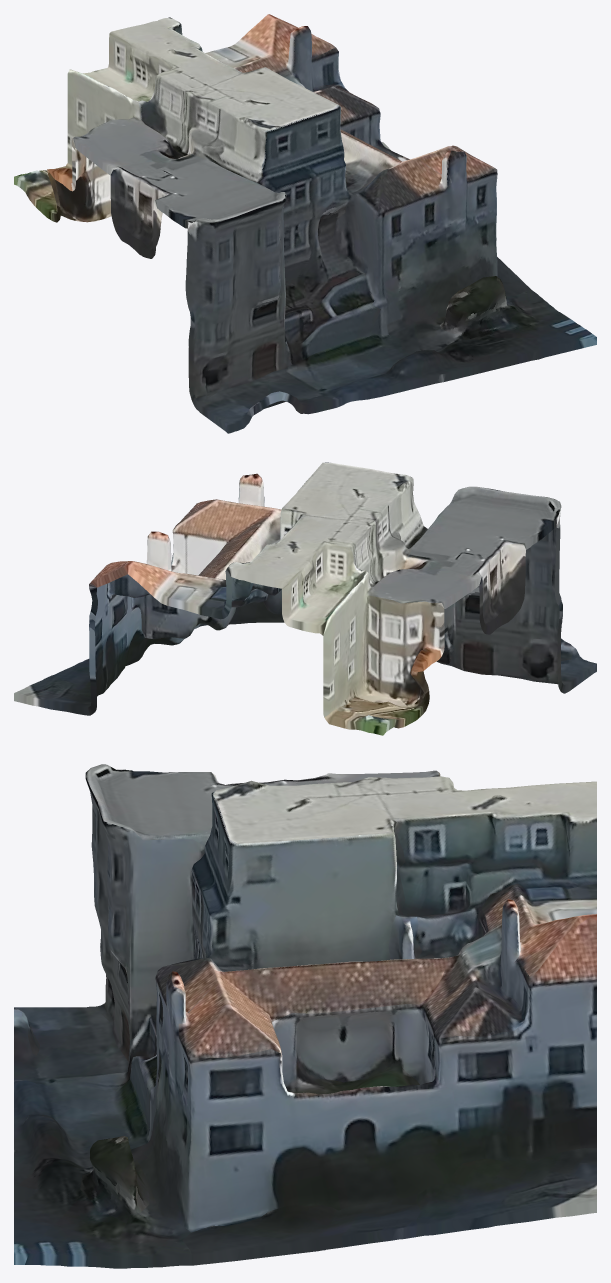
File: z20-167723-405192-h0-yup-uvflip-v3-world.glb
3 renders of one model, top to bottom at view 1: azimuth 30°, elevation 25°; view 2: azimuth 150°, elevation 25°; view 3: azimuth 270°, elevation 25°, orthographic. The views are drawn at different scales.
Size of the model in its own units: 30.16 by 17.96 by 30.32.
1 material, 1 textured.
